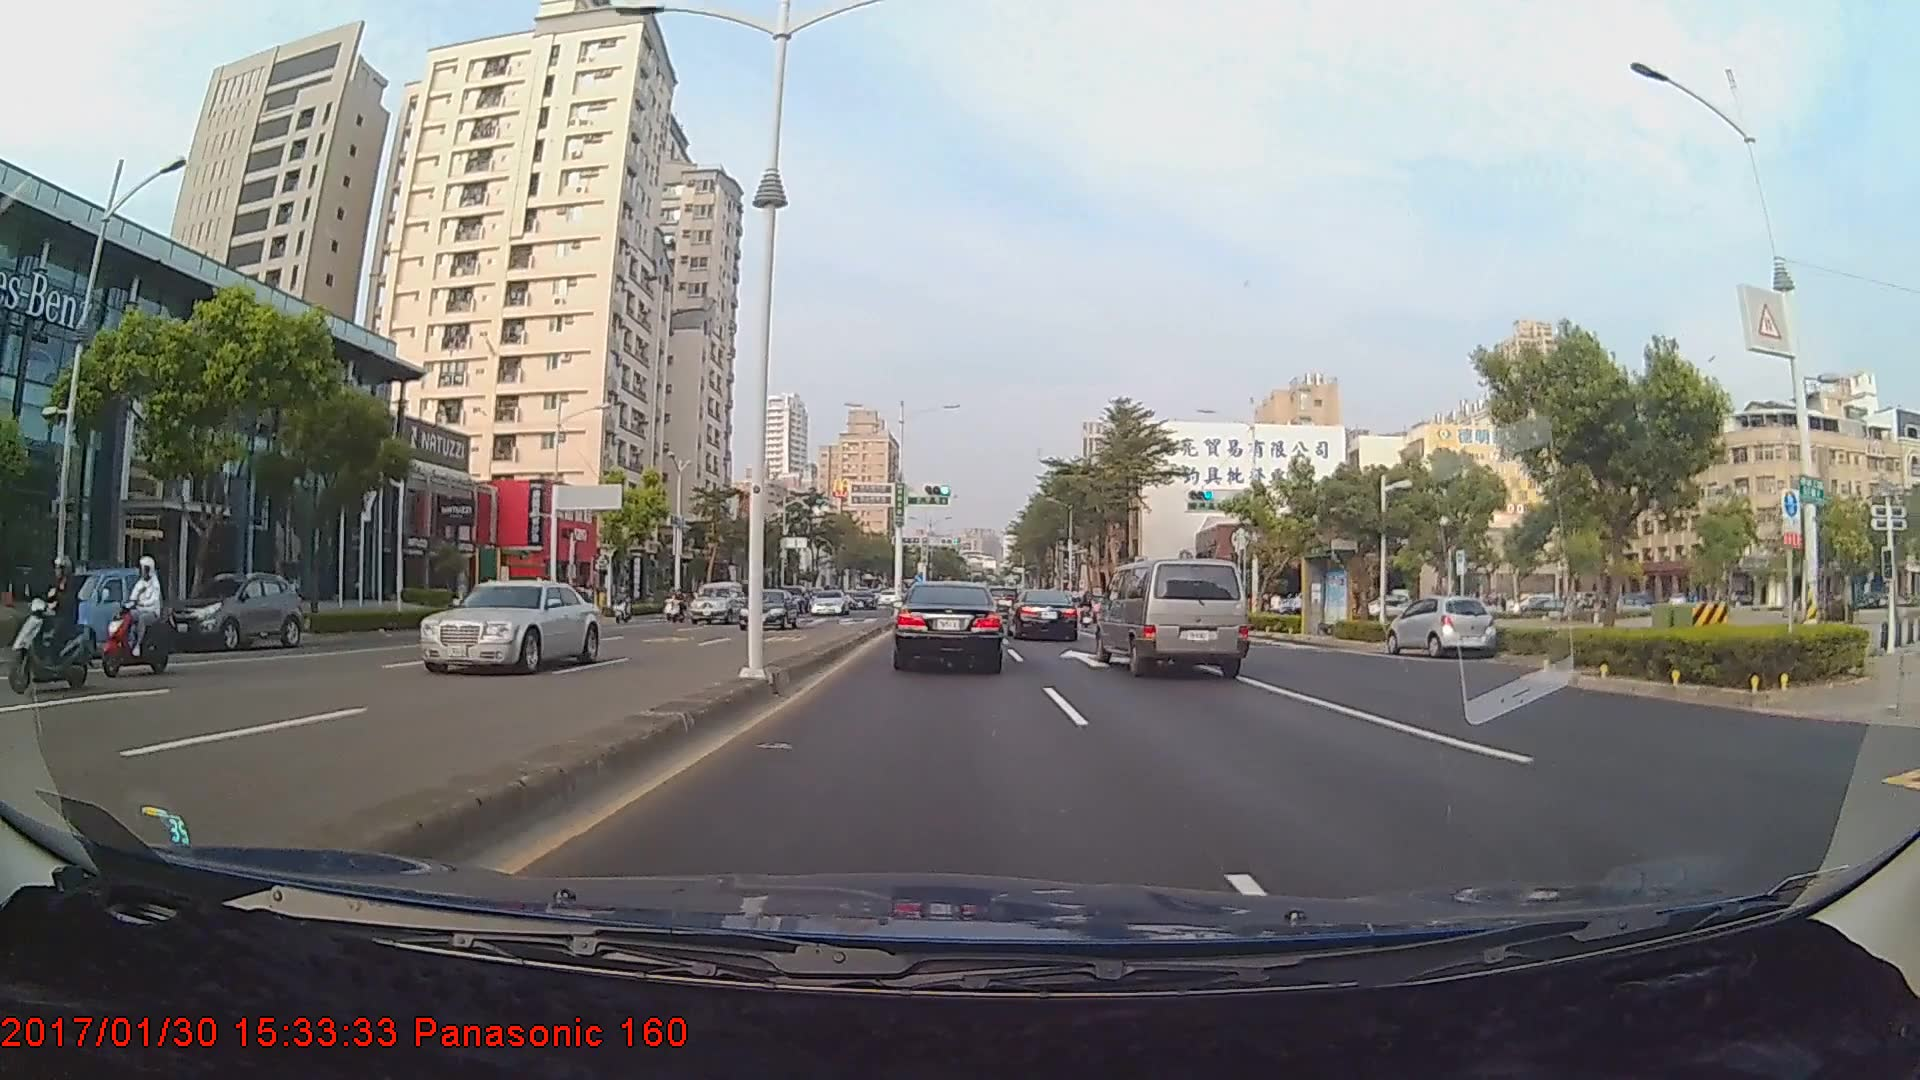rider: (4, 555, 100, 696), (85, 553, 169, 679)
vehicle: (1094, 553, 1251, 678), (412, 578, 599, 673), (28, 565, 171, 657), (166, 567, 301, 651), (892, 579, 1006, 671), (1387, 595, 1494, 659), (1007, 588, 1080, 642), (687, 580, 746, 625), (741, 586, 802, 628), (810, 587, 851, 613)
